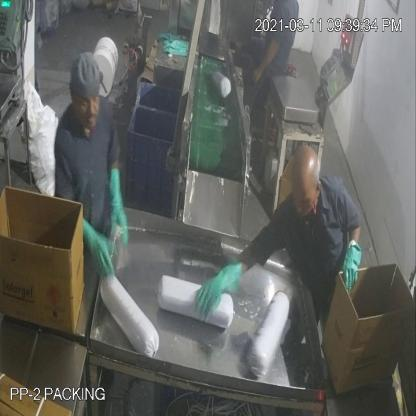glove: (102, 159, 138, 251), (78, 213, 118, 277), (192, 265, 239, 314), (338, 231, 367, 295)
no_glove: (244, 39, 286, 84)
